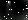person: (7, 3, 14, 16)
